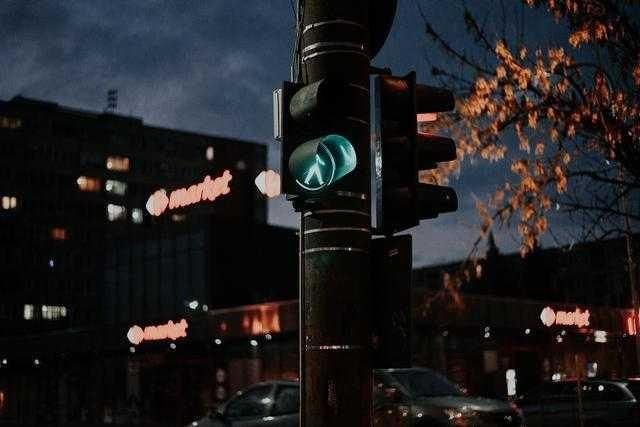green: (283, 75, 363, 203), (291, 131, 359, 196)
